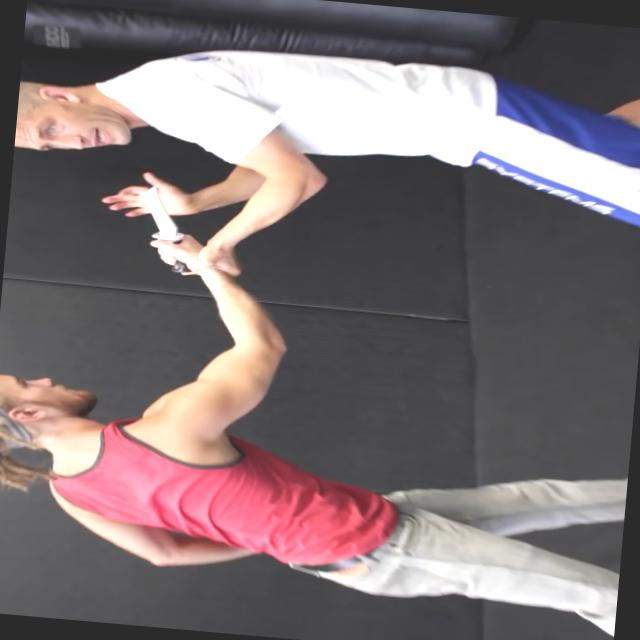knife: (126, 178, 210, 279)
